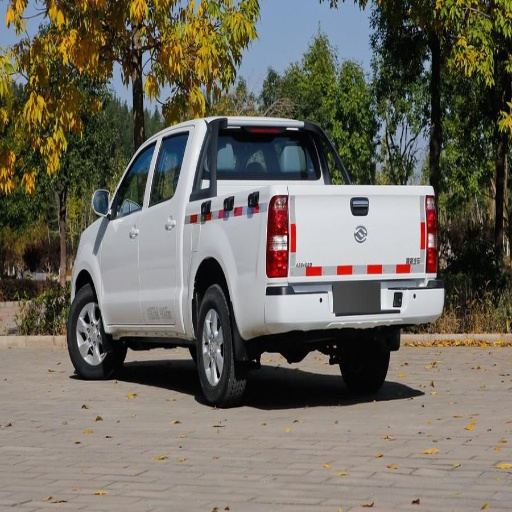_background_: (296, 293, 429, 328)
back_bumper: (204, 130, 330, 179)
back_glass: (141, 142, 177, 322)
back_left_door: (266, 199, 288, 274)
back_right_door: (422, 195, 439, 274)
front_glass: (100, 140, 161, 323)
tailgate: (173, 182, 426, 336)
trunk: (194, 285, 245, 406), (69, 284, 122, 378), (339, 342, 388, 397)
